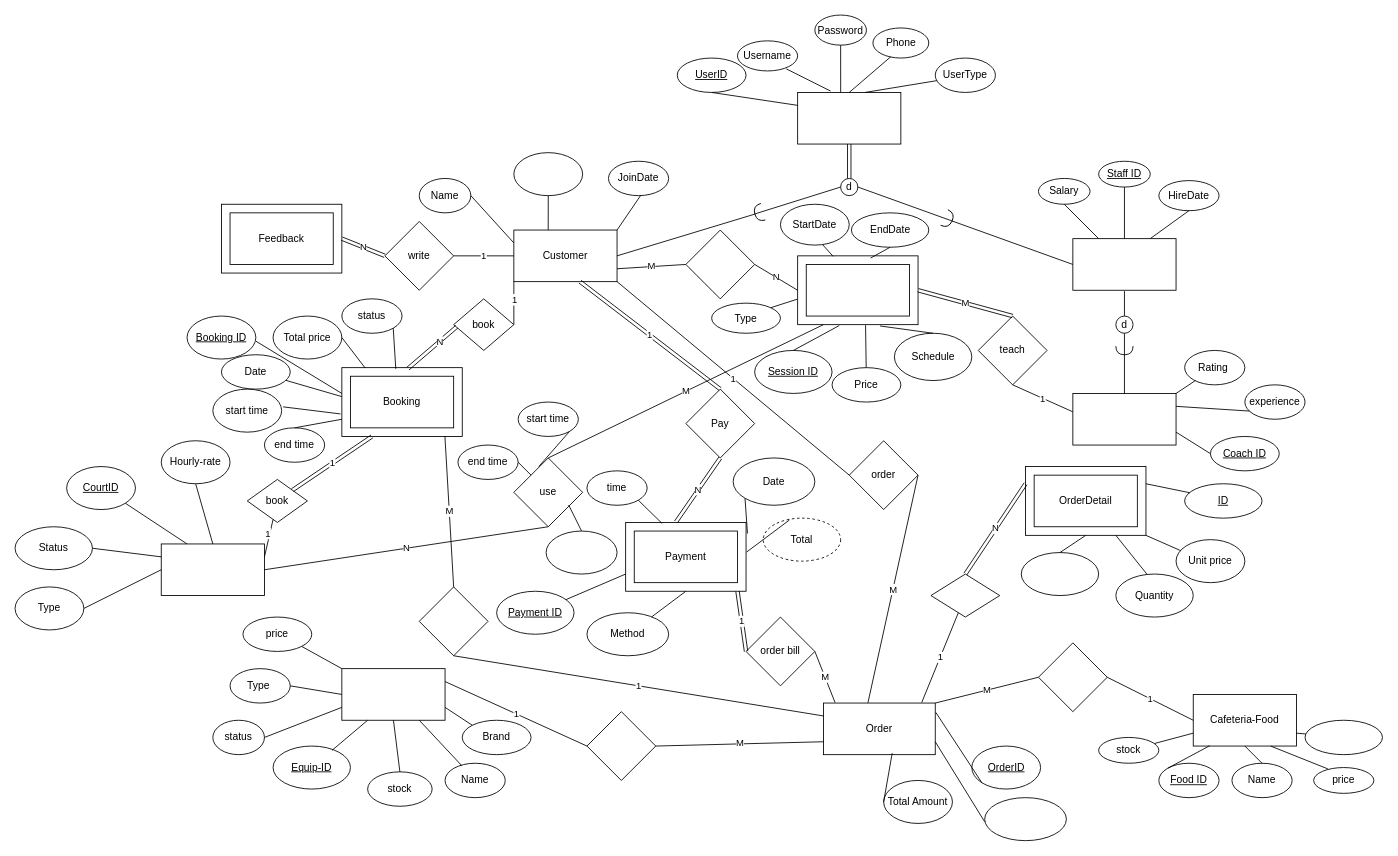
This 1398x856 diagram has some shape labels left out. The shapes that lost their labels are listed below. From the top down, each one's centre as x and y in pixels, then its label:
At (x=849, y=118): "User".
At (x=548, y=174): "CustomerID".
At (x=720, y=264): "enrol".
At (x=1124, y=264): "Staff".
At (x=857, y=290): "Training sessions".
At (x=1124, y=419): "Coach".
At (x=212, y=569): "Court".
At (x=581, y=552): "day use".
At (x=1059, y=574): "ItemType".
At (x=965, y=595): "details".
At (x=453, y=621): "court bill".
At (x=393, y=694): "Equipments".
At (x=1072, y=677): "order-food".
At (x=621, y=745): "rent".
At (x=1343, y=737): "category".
At (x=1025, y=819): "Order Date".
